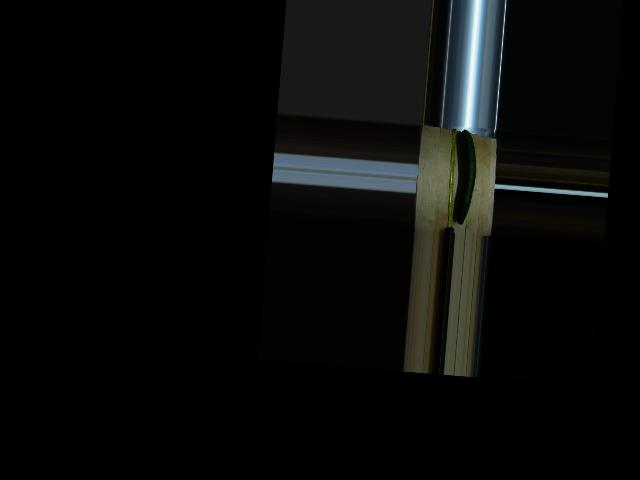cucumber: (452, 129, 479, 225)
